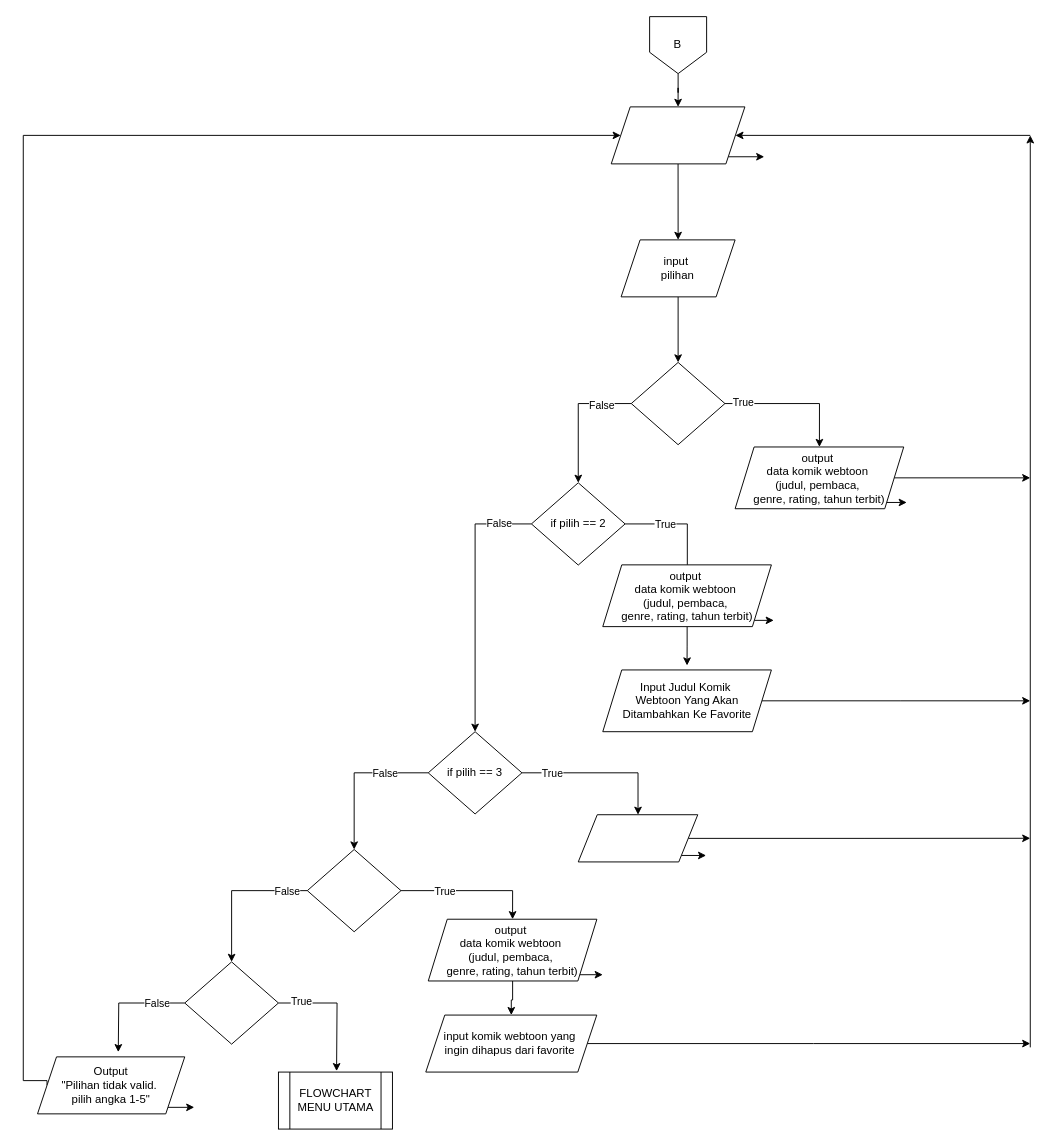
Image size: 1055x1146. Some labels were removed from this diagram. The shapes that lost their labels are listed below. From the top down, each one's centre as x and y in pixels, then its label:
pixel 677 135: output "Menu Pengguna"
pixel 677 403: if pilih == 1
pixel 637 838: output list data komik webtoon favorite
pixel 353 890: if pilih == 4
pixel 231 1002: if pilih == 5
